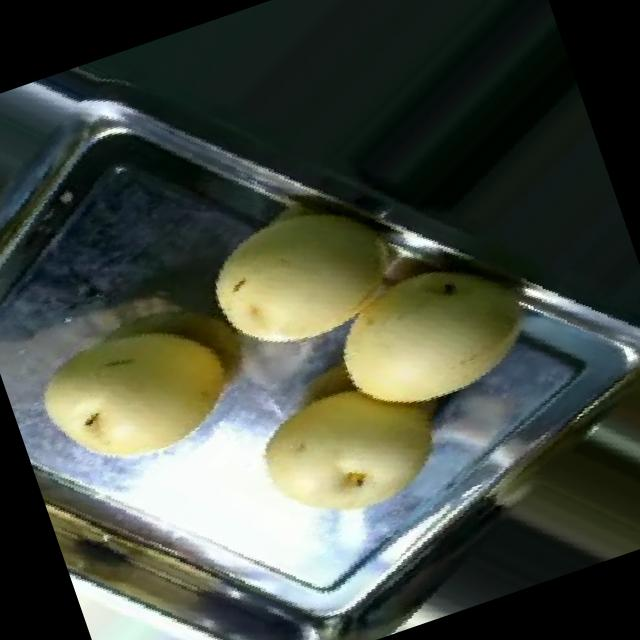Fruit: (275, 190, 580, 470), (160, 138, 442, 407), (0, 262, 278, 510), (222, 320, 488, 556)
